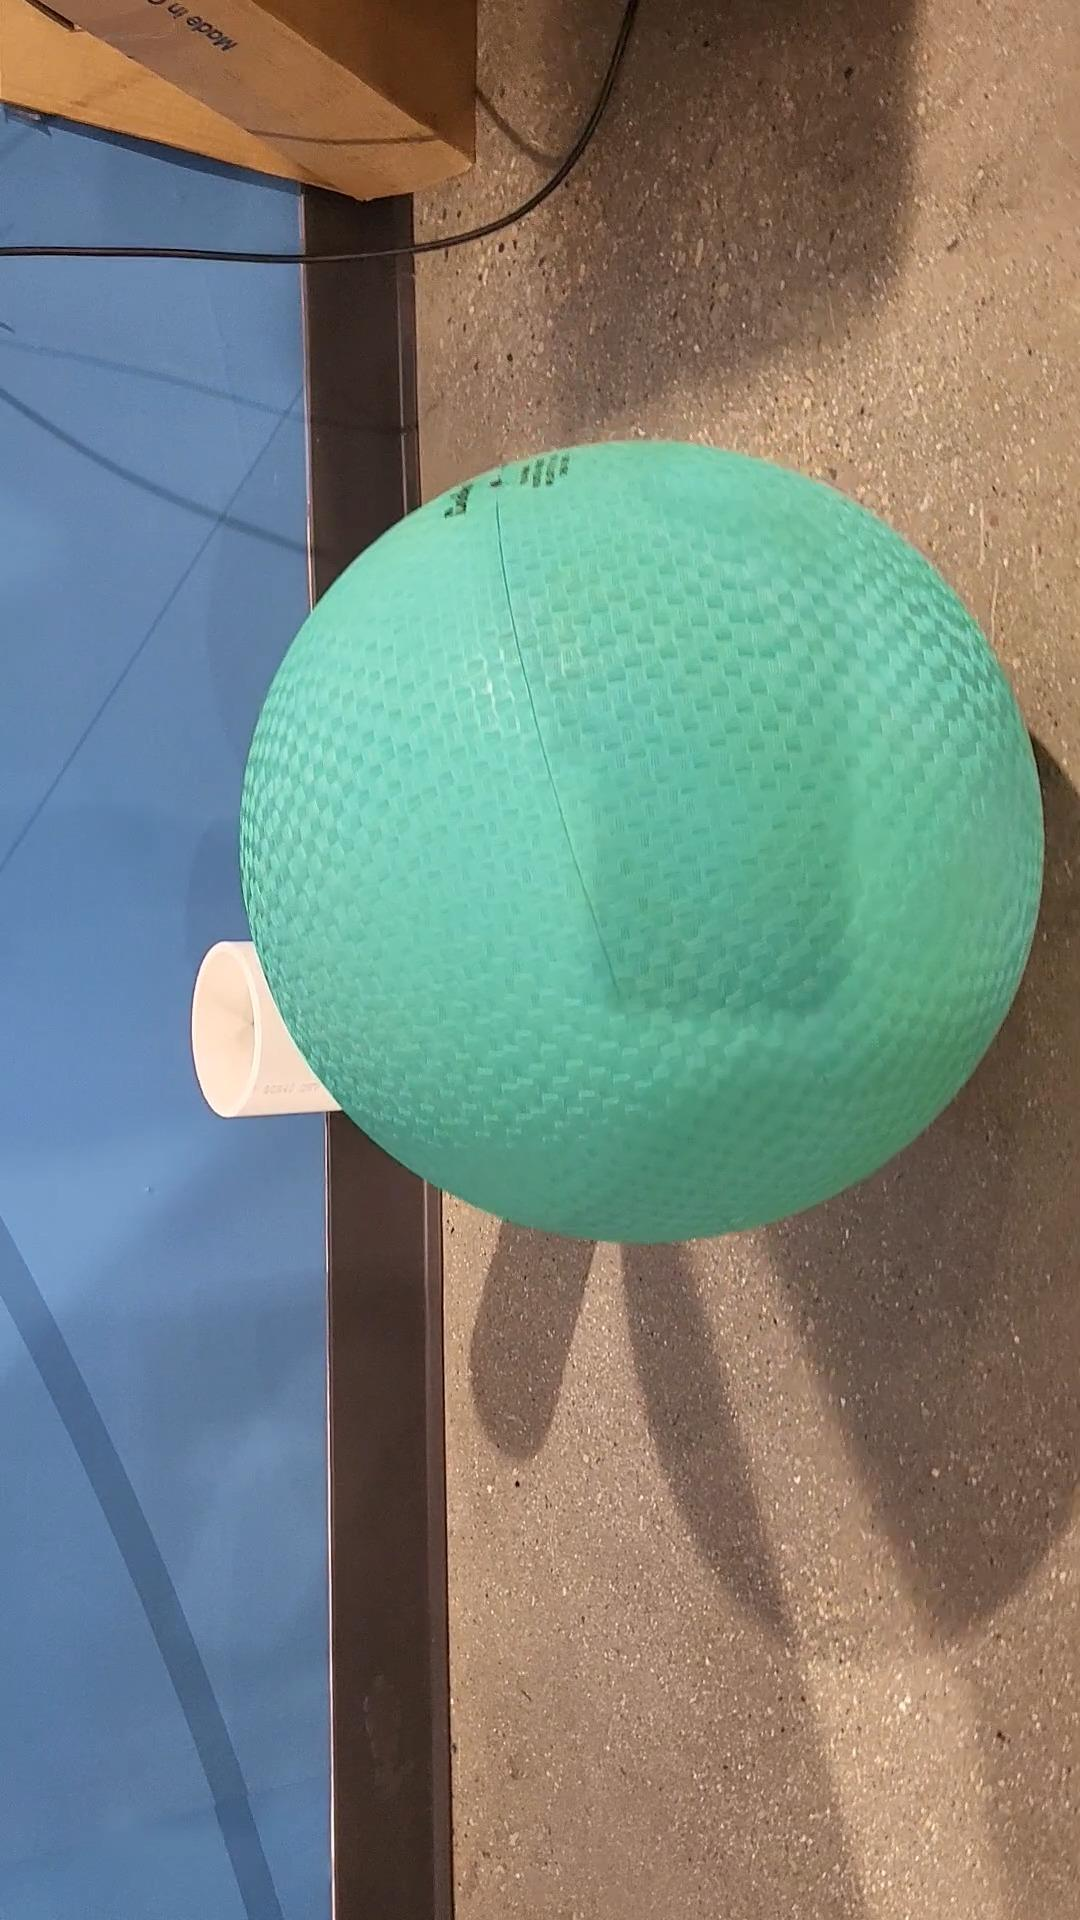algae: (245, 438, 1047, 1245)
coral: (187, 938, 349, 1117)
